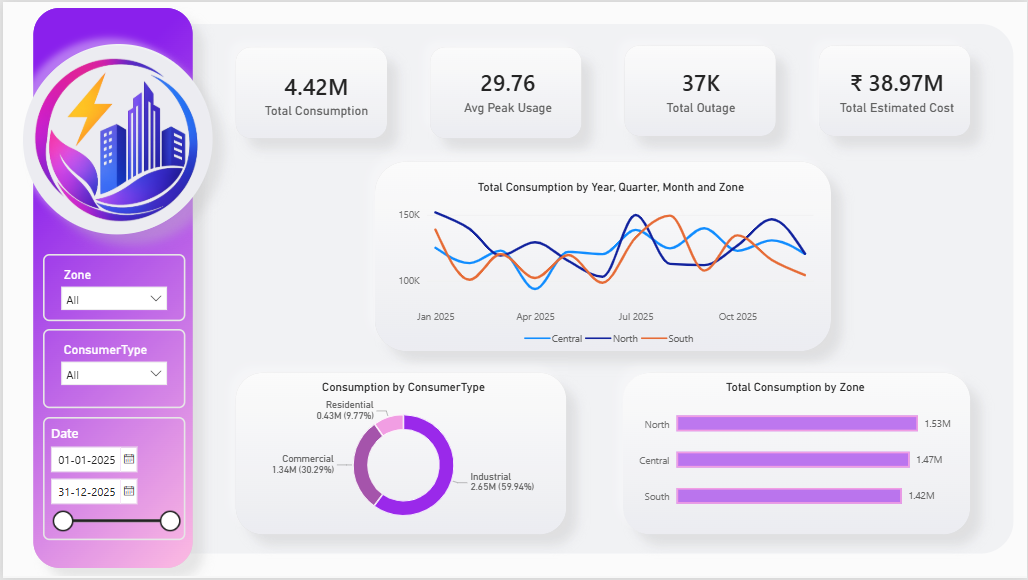

The page's visual inventory and layout, read from the dashboard file:
{"tool":"powerbi","page":{"name":"Page 1","canvas":[1280,720],"ordinal":0},"visuals":[{"type":"lineChart","title":"Monthly Energy Trend by Zone","fields":{"Category":["smartcity energy.Date.Variation.Date Hierarchy.Year","smartcity energy.Date.Variation.Date Hierarchy.Quarter","smartcity energy.Date.Variation.Date Hierarchy.Month","smartcity energy.Date.Variation.Date Hierarchy.Day"],"Series":["smartcity energy.Zone"],"Y":["_Measure.Total Consumption"]},"box":[477.5,208.8,565,241.2],"z":0},{"type":"clusteredBarChart","title":"Zone-wise Energy Consumption","fields":{"Category":["Total and Average Daily Energy by Zone.Zone"],"Y":["_Measure.Total Consumption"]},"box":[775.2,458.9,431,205.5],"z":1000},{"type":"donutChart","title":"Consumption by Consumer Type","fields":{"Category":["smartcity energy.ConsumerType"],"Y":["_Measure.Total Consumption"]},"box":[295,458.8,411.2,217.5],"z":2000},{"type":"card","fields":{"Values":["_Measure.Total Consumption"]},"box":[295,56.2,193.8,118.8],"z":3000},{"type":"card","fields":{"Values":["_Measure.Avg Peak Usage"]},"box":[533.8,56.2,195,110],"z":4000},{"type":"card","fields":{"Values":["_Measure.Total Outage"]},"box":[775,56.2,195,110],"z":5000},{"type":"card","fields":{"Values":["_Measure.Total Estimated Cost"]},"box":[1023.8,56.2,187.5,110],"z":6000},{"type":"slicer","fields":{"Values":["smartcity energy.Zone"]},"box":[50,315,177.5,83.8],"z":10000},{"type":"slicer","fields":{"Values":["smartcity energy.ConsumerType"]},"box":[50,408.8,177.5,98.8],"z":11000},{"type":"slicer","fields":{"Values":["smartcity energy.Date"]},"box":[50,518.8,177.5,153.8],"z":11001},{"type":"image","box":[11.2,67.5,261.2,210],"z":11002}]}

Visuals, with their boxes in screenshot pixels (x1, y1, x2, y2), scaled from the page's 1280x720 canvas onto the 1028x580 screenshot:
"Monthly Energy Trend by Zone" lineChart: 383/168/837/362
"Zone-wise Energy Consumption" clusteredBarChart: 623/370/969/535
"Consumption by Consumer Type" donutChart: 237/370/567/545
card - _Measure.Total Consumption: 237/45/393/141
card - _Measure.Avg Peak Usage: 429/45/585/134
card - _Measure.Total Outage: 622/45/779/134
card - _Measure.Total Estimated Cost: 822/45/973/134
slicer - smartcity energy.Zone: 40/254/183/321
slicer - smartcity energy.ConsumerType: 40/329/183/409
slicer - smartcity energy.Date: 40/418/183/542
image: 9/54/219/224
